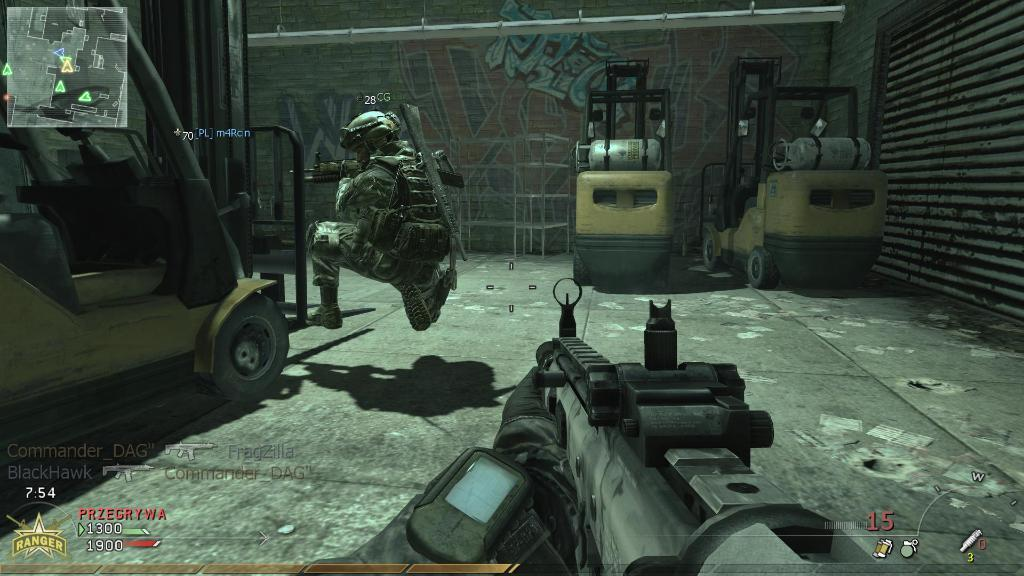Rifle: (443, 308, 803, 540)
